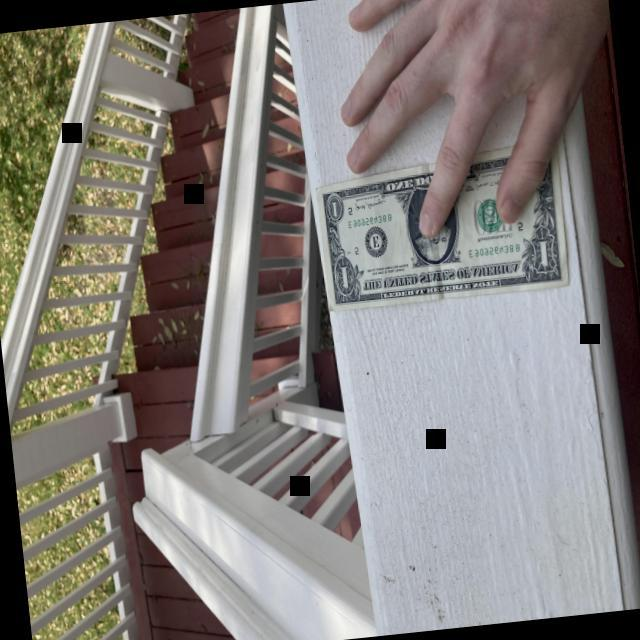one: (315, 134, 569, 311)
